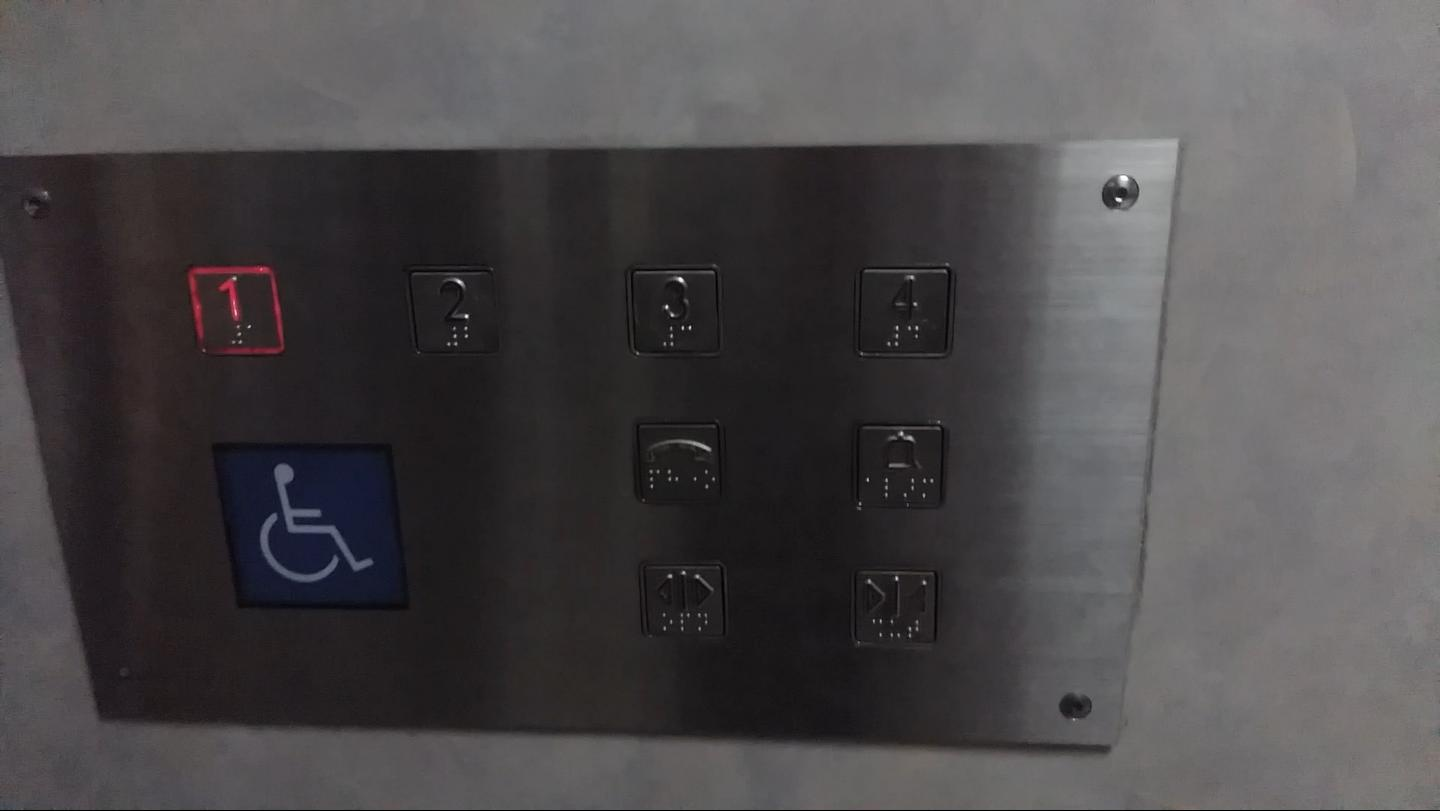1: (185, 263, 285, 356)
2: (403, 263, 500, 356)
3: (626, 264, 722, 358)
4: (853, 263, 955, 357)
CH: (212, 440, 412, 611)
alarm: (848, 421, 948, 510)
call: (626, 417, 729, 507)
close: (848, 563, 941, 646)
open: (636, 557, 728, 639)
